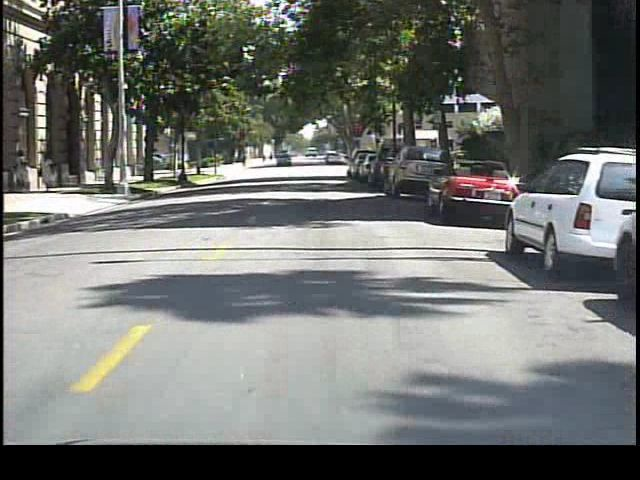person: (35, 152, 62, 196), (15, 147, 35, 193)
